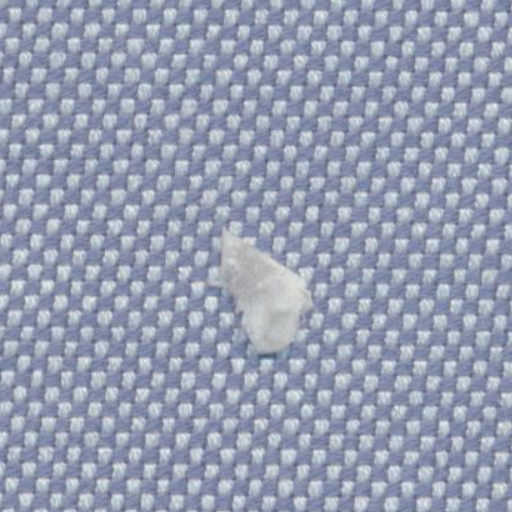MianQiu: (192, 215, 336, 375)
